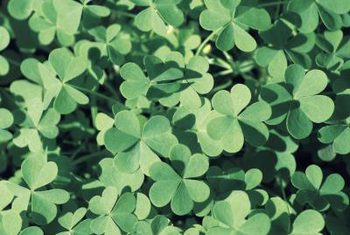oxalis: (29, 31, 327, 222)
